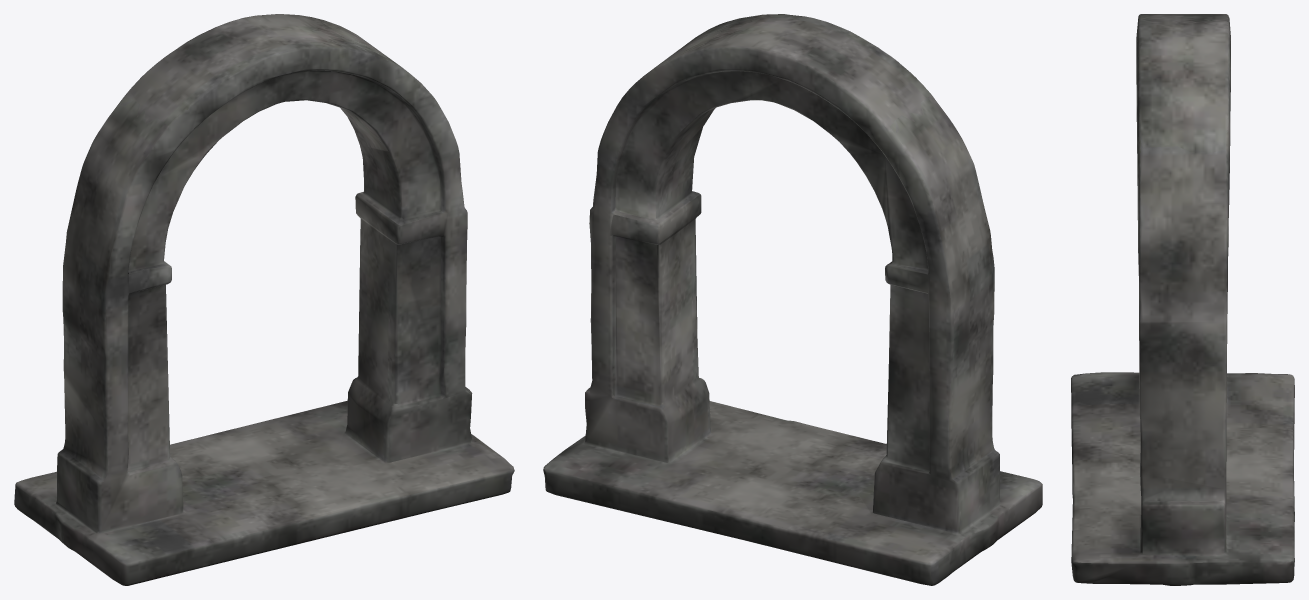
Rendered from sturdy-granite-street-arch-v001.glb.
3 views of the same model, side by side, from view 1: azimuth 30°, elevation 25°; view 2: azimuth 150°, elevation 25°; view 3: azimuth 270°, elevation 25° (orthographic).
Parts seen in each view (by area): view 1: sturdy-granite-street-arch; view 2: sturdy-granite-street-arch; view 3: sturdy-granite-street-arch.
Boxes of the visible parts, <box> form: sturdy-granite-street-arch: <box>14,14,514,585</box>; sturdy-granite-street-arch: <box>543,14,1042,585</box>; sturdy-granite-street-arch: <box>1071,14,1294,585</box>.
Size of the model in its own units: 3.23 by 3.6 by 1.59.
Materials: 1 (1 with a texture image).
